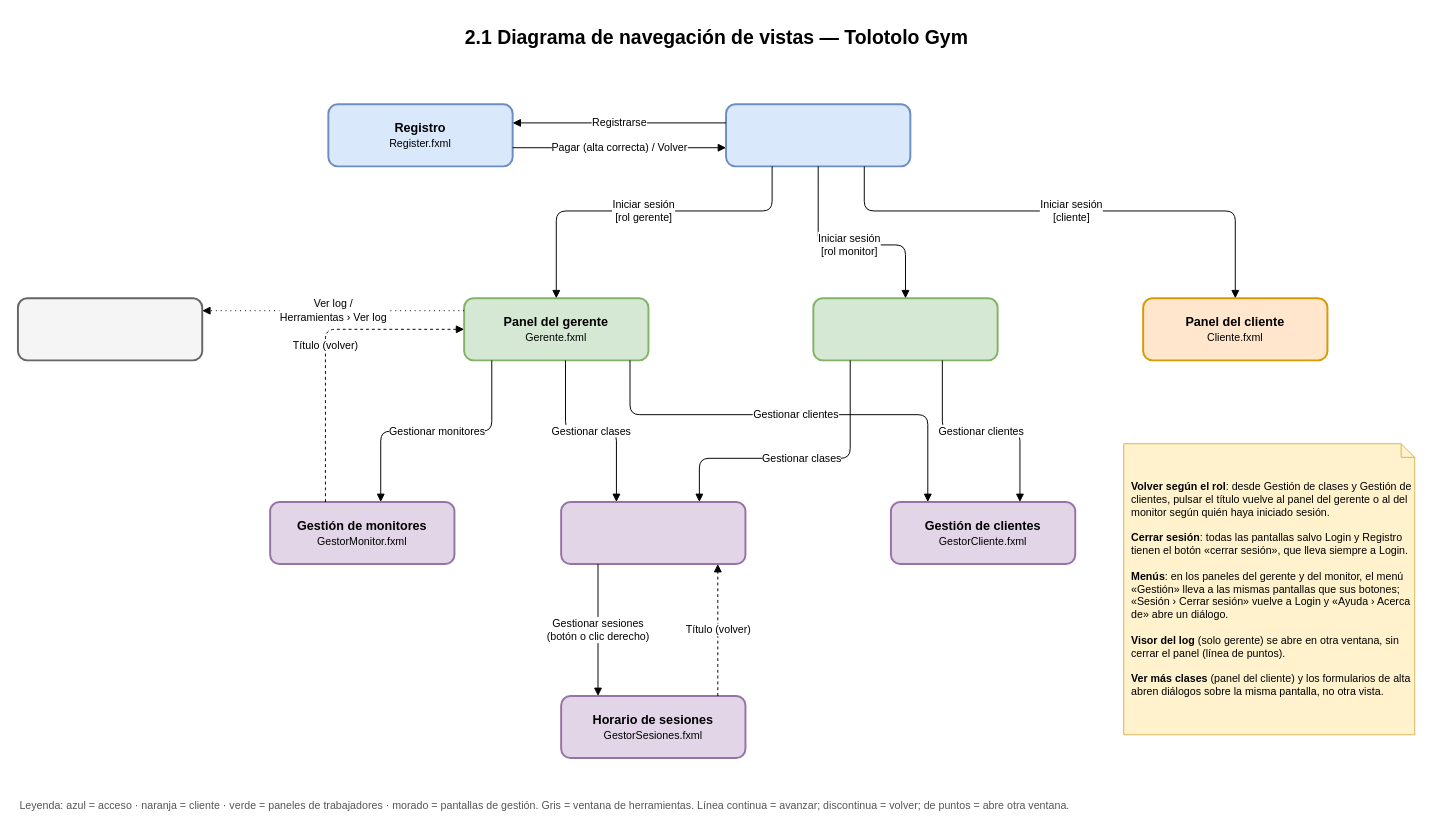
The diagram is 1432 pixels wide and 838 high, and some of its shapes have lost their labels. The shapes that lost their labels are listed below. From the top down, each one's centre as x and y in pixels, then its label:
At (x=818, y=135): "Inicio de sesión Login.fxml".
At (x=109, y=329): "Visor del log VisorLog.fxml".
At (x=905, y=329): "Panel del monitor Monitor.fxml".
At (x=653, y=533): "Gestión de clases GestorClase.fxml".
